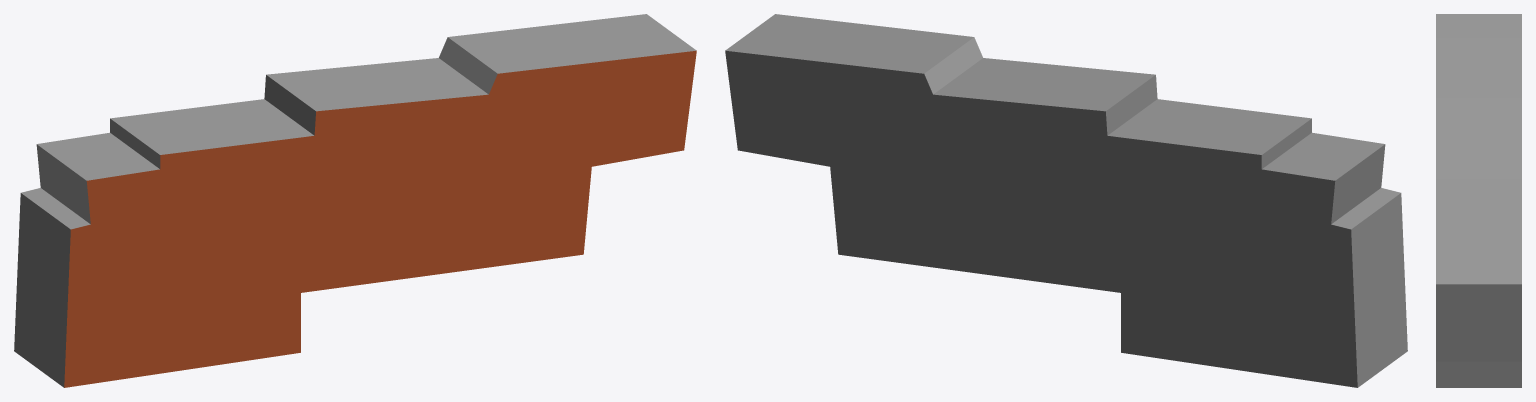
File: construction_0521_assumed_A_Casa_h6m.obj
3 views of the same model, side by side, from view 1: azimuth 30°, elevation 25°; view 2: azimuth 150°, elevation 25°; view 3: azimuth 270°, elevation 25° (orthographic). The views are drawn at different scales.
Parts seen in each view (by area): view 1: construction_0521_assumed_A_Casa; view 2: construction_0521_assumed_A_Casa; view 3: construction_0521_assumed_A_Casa.
Part boxes in pixels (x1=…): construction_0521_assumed_A_Casa: x1=14, y1=14, x2=696, y2=387; construction_0521_assumed_A_Casa: x1=725, y1=14, x2=1407, y2=387; construction_0521_assumed_A_Casa: x1=1436, y1=14, x2=1521, y2=387.
Size of the model in its own units: 43.7 by 15.69 by 6.
